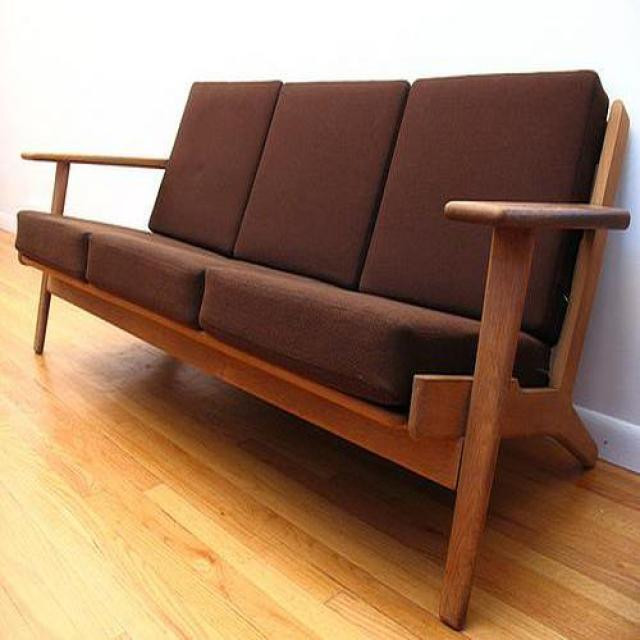sofa: (14, 70, 632, 632)
